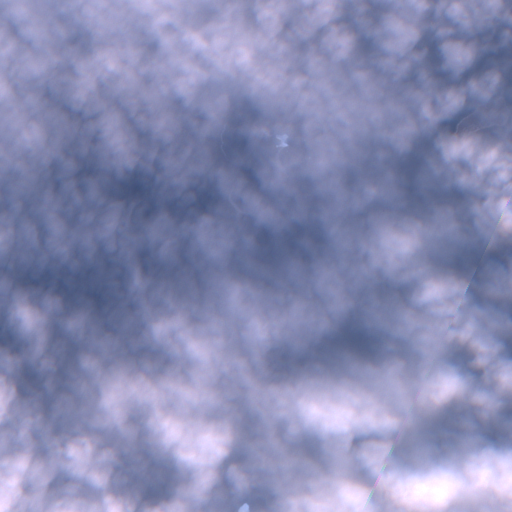Iceberg: (276, 134, 288, 146), (238, 503, 249, 511)
